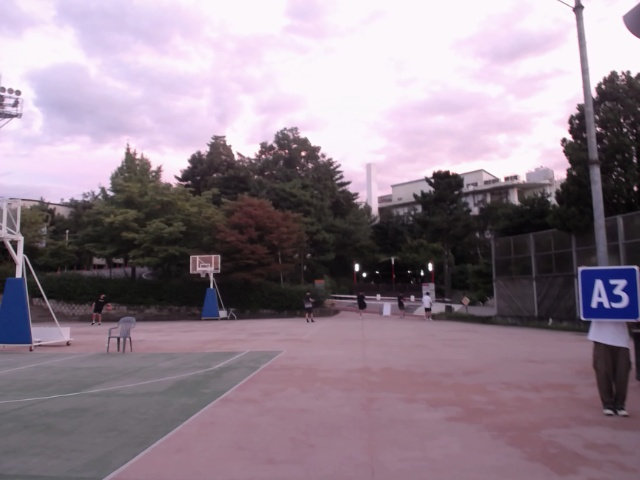delivery_a3: (580, 268, 638, 321)
